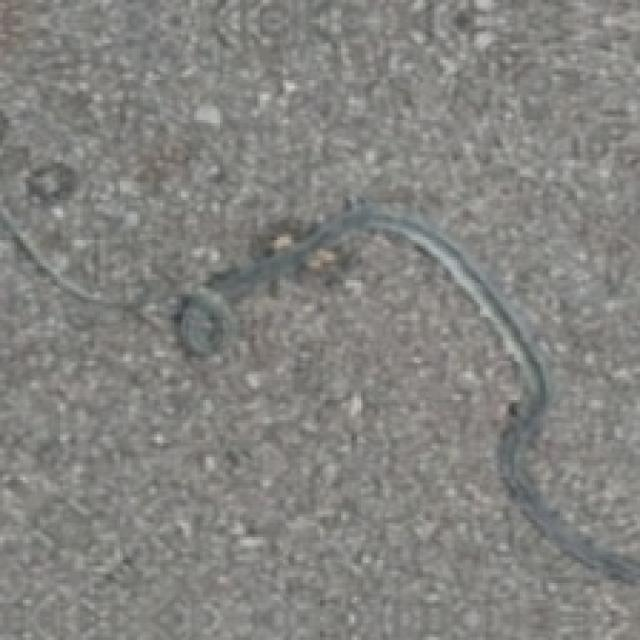paradise tree snake: (0, 0, 637, 554), (0, 231, 637, 637), (0, 234, 637, 637), (566, 429, 637, 549)
